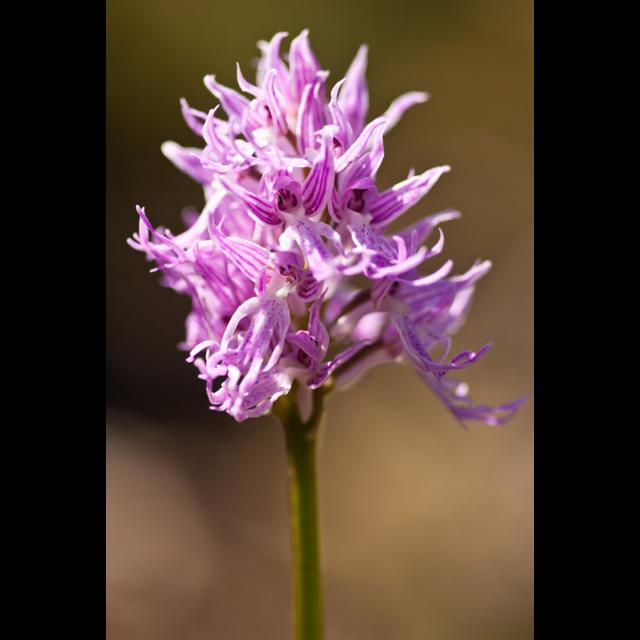Flower: (138, 31, 474, 452)
